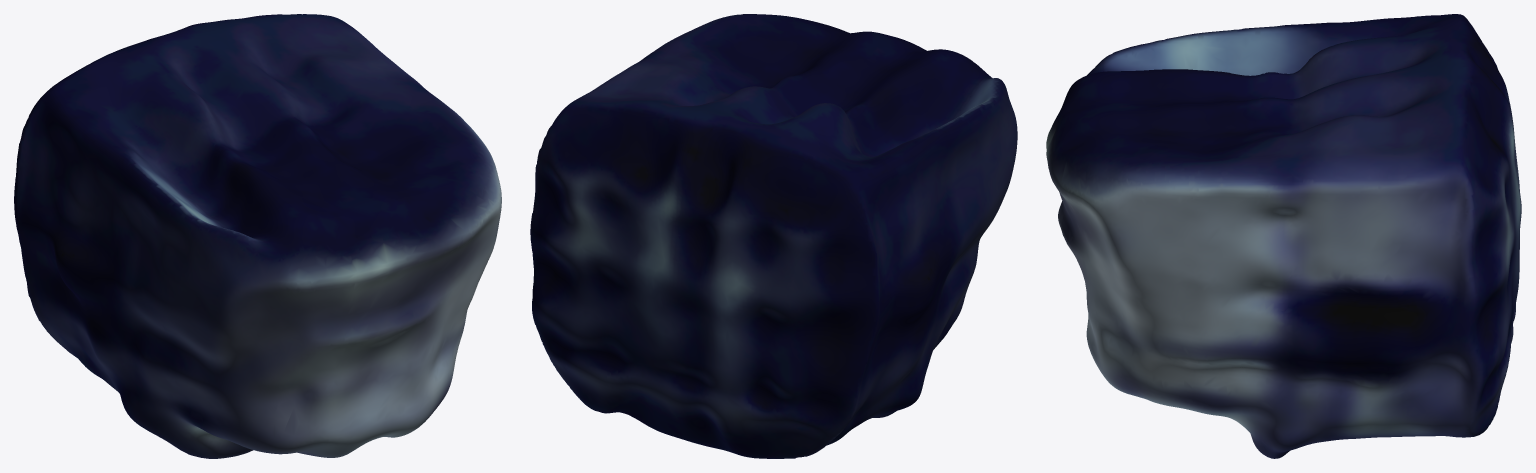
File: backpack.glb
3 renders of one model, left to right at view 1: azimuth 30°, elevation 25°; view 2: azimuth 150°, elevation 25°; view 3: azimuth 270°, elevation 25°, orthographic. The views are drawn at different scales.
Size of the model in its own units: 0.8895 by 0.8369 by 0.9997.
